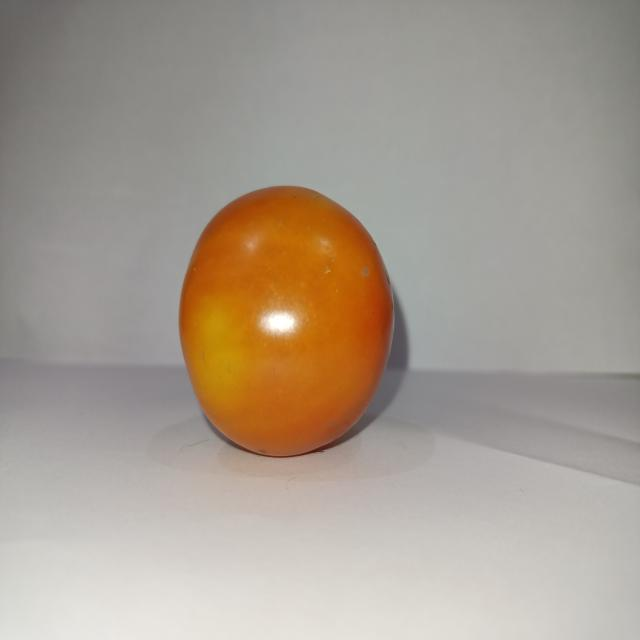Red: (177, 183, 395, 457)
